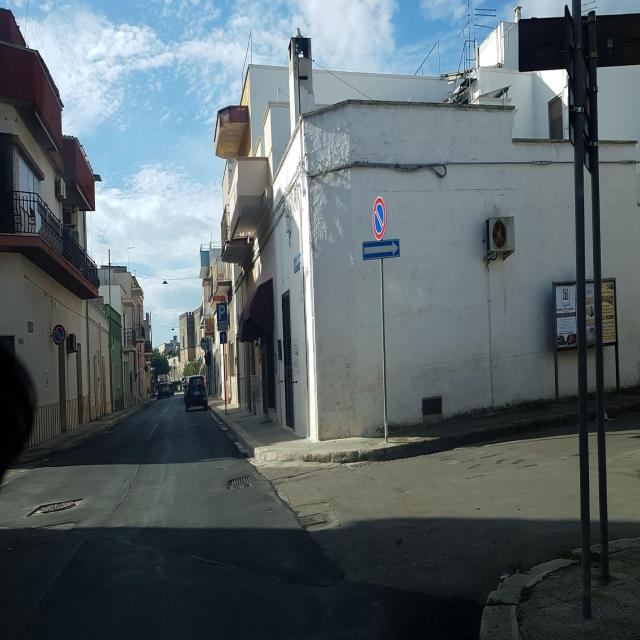forb_stopping: (373, 197, 387, 240), (53, 325, 66, 346)
